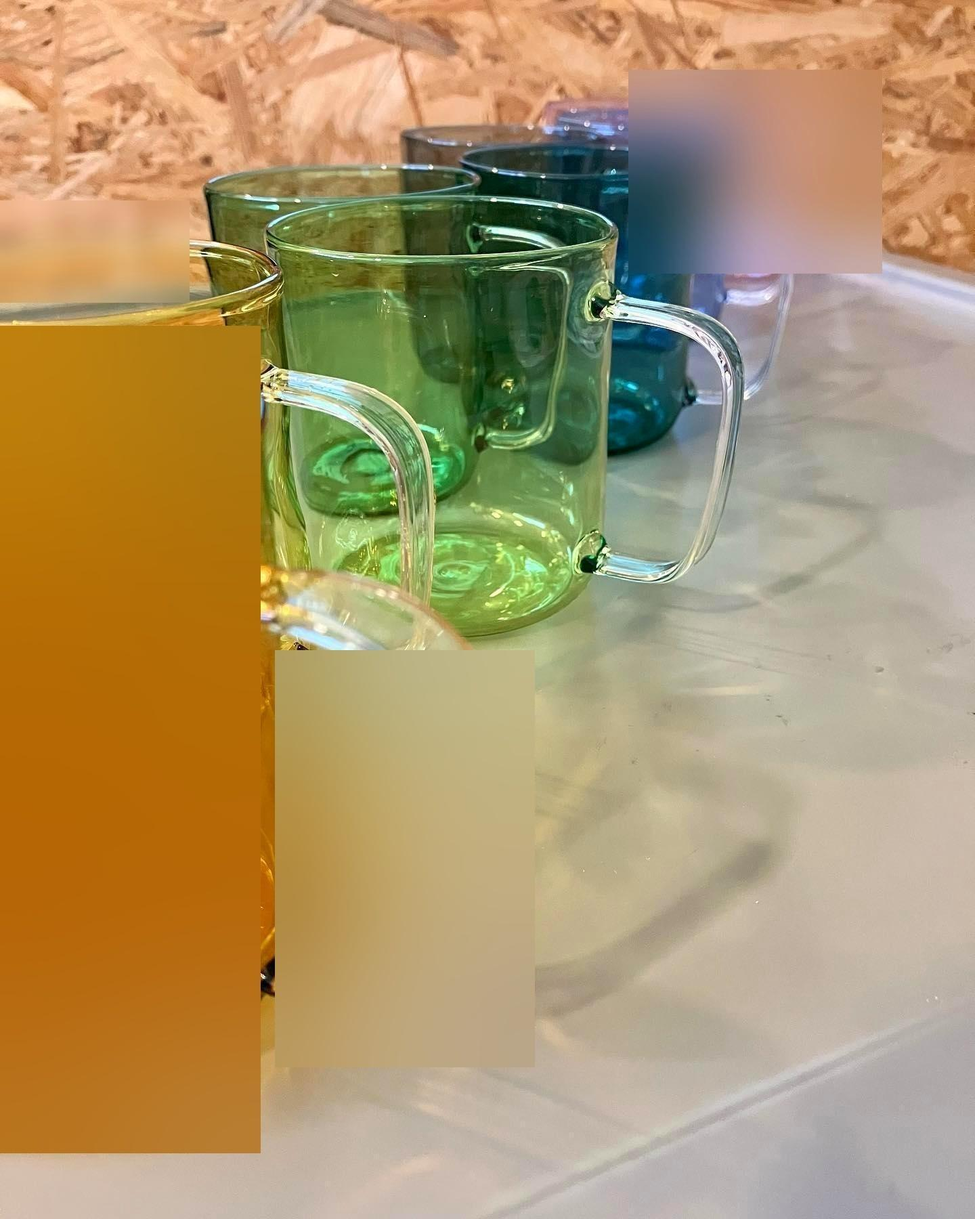glass-mug: (268, 186, 747, 637)
